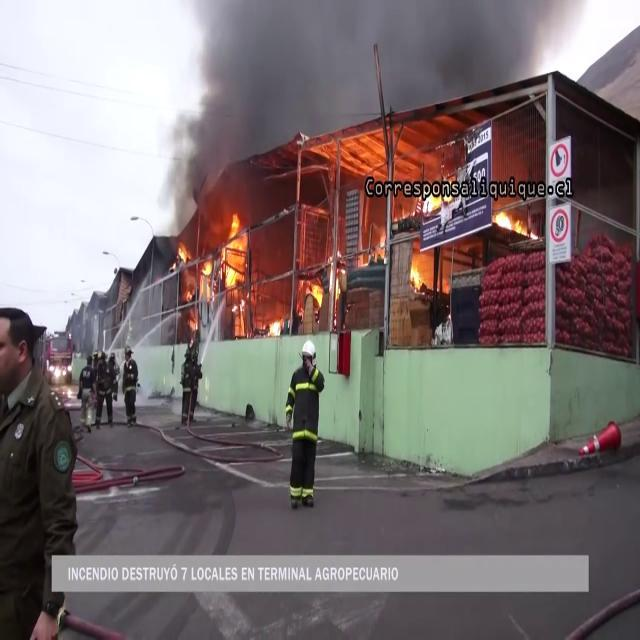Fire: (182, 210, 254, 330), (492, 206, 530, 241), (408, 248, 428, 292)
Smoke: (162, 0, 577, 125)
